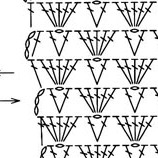enseble_chain: (15, 38, 52, 92), (89, 26, 125, 62), (54, 111, 88, 148), (54, 55, 88, 92), (90, 84, 124, 119), (126, 54, 158, 90), (108, 110, 139, 147), (52, 0, 86, 33), (126, 111, 158, 146), (109, 53, 139, 90), (125, 27, 156, 61), (35, 55, 65, 90), (126, 0, 158, 32), (124, 85, 155, 118), (72, 26, 99, 61), (23, 29, 51, 62), (51, 29, 79, 60), (90, 115, 117, 146), (36, 114, 61, 147), (51, 86, 78, 116), (76, 84, 101, 116), (88, 58, 114, 87), (41, 29, 67, 57), (52, 58, 69, 86), (31, 93, 45, 116), (43, 144, 57, 158)
fan: (88, 1, 114, 32), (82, 114, 104, 145), (81, 0, 103, 30), (123, 1, 142, 28), (47, 1, 64, 29), (22, 2, 39, 29), (125, 58, 142, 85), (90, 30, 106, 56)
